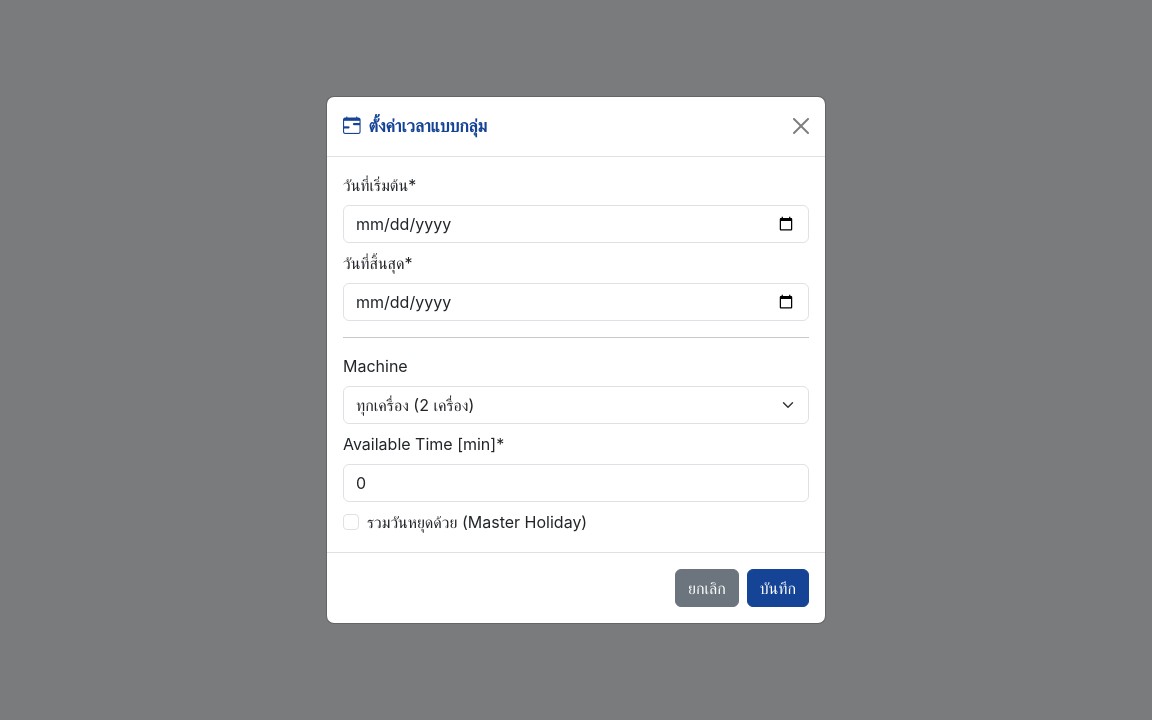
it: กันไว้ก่อนยิง API › วันเริ่มมาหลังวันจบ → เตือน
Type "2026-08-20" into the date field labelled "วันที่เริ่มต้น*" at {"x": 576, "y": 224}, box [343,205,809,243]
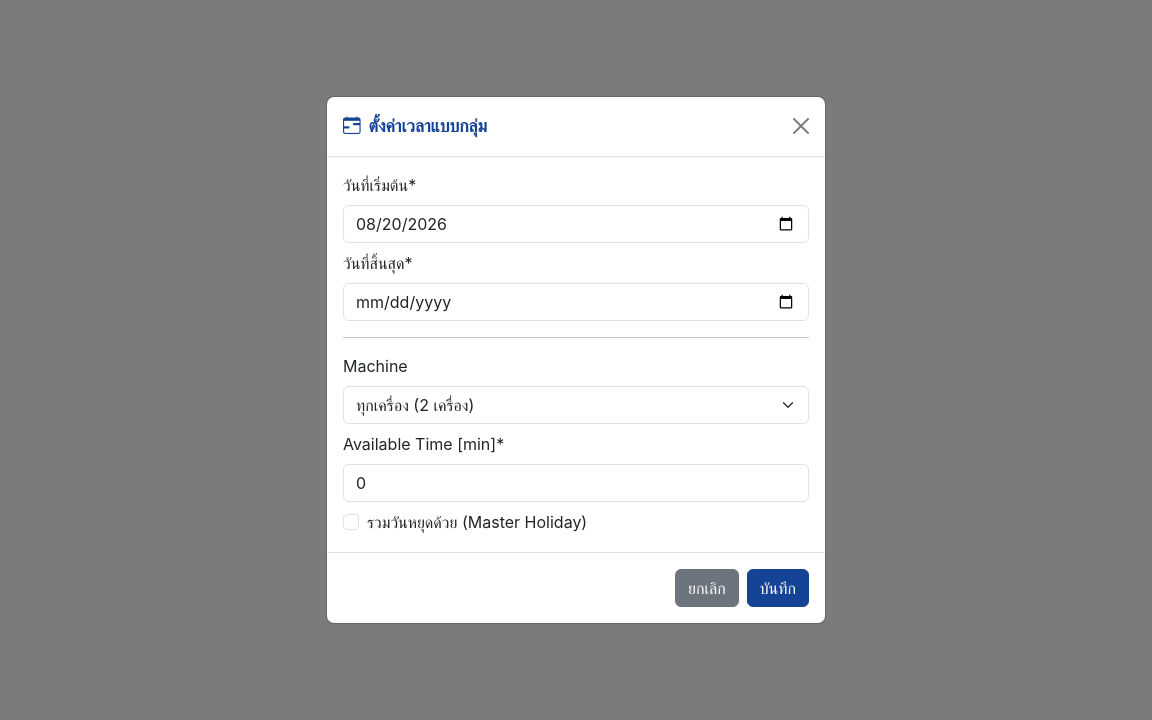
Type "2026-08-10" into the date field labelled "วันที่สิ้นสุด*" at {"x": 576, "y": 302}, box [343,283,809,321]
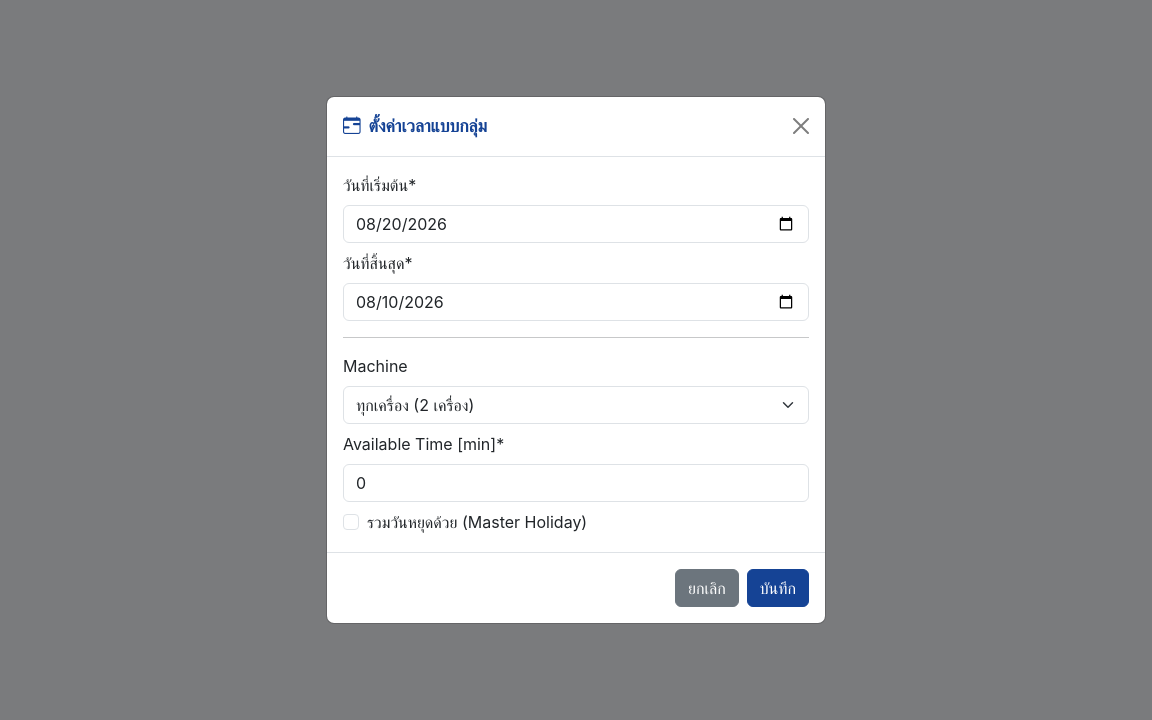
Click the button "บันทึก" at {"x": 778, "y": 588}, box [747,569,809,607]
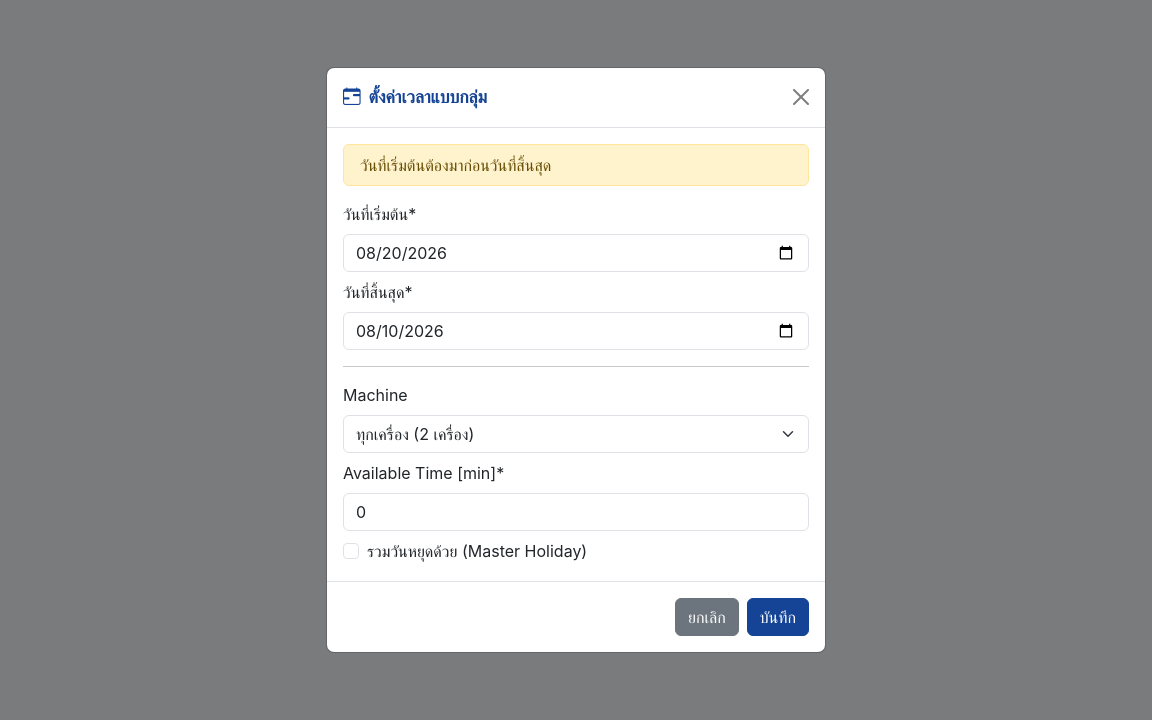
expect the text "วันที่เริ่มต้นต้องมาก่อนวันที่สิ้นสุด" is shown: met, box [343,144,809,186]
